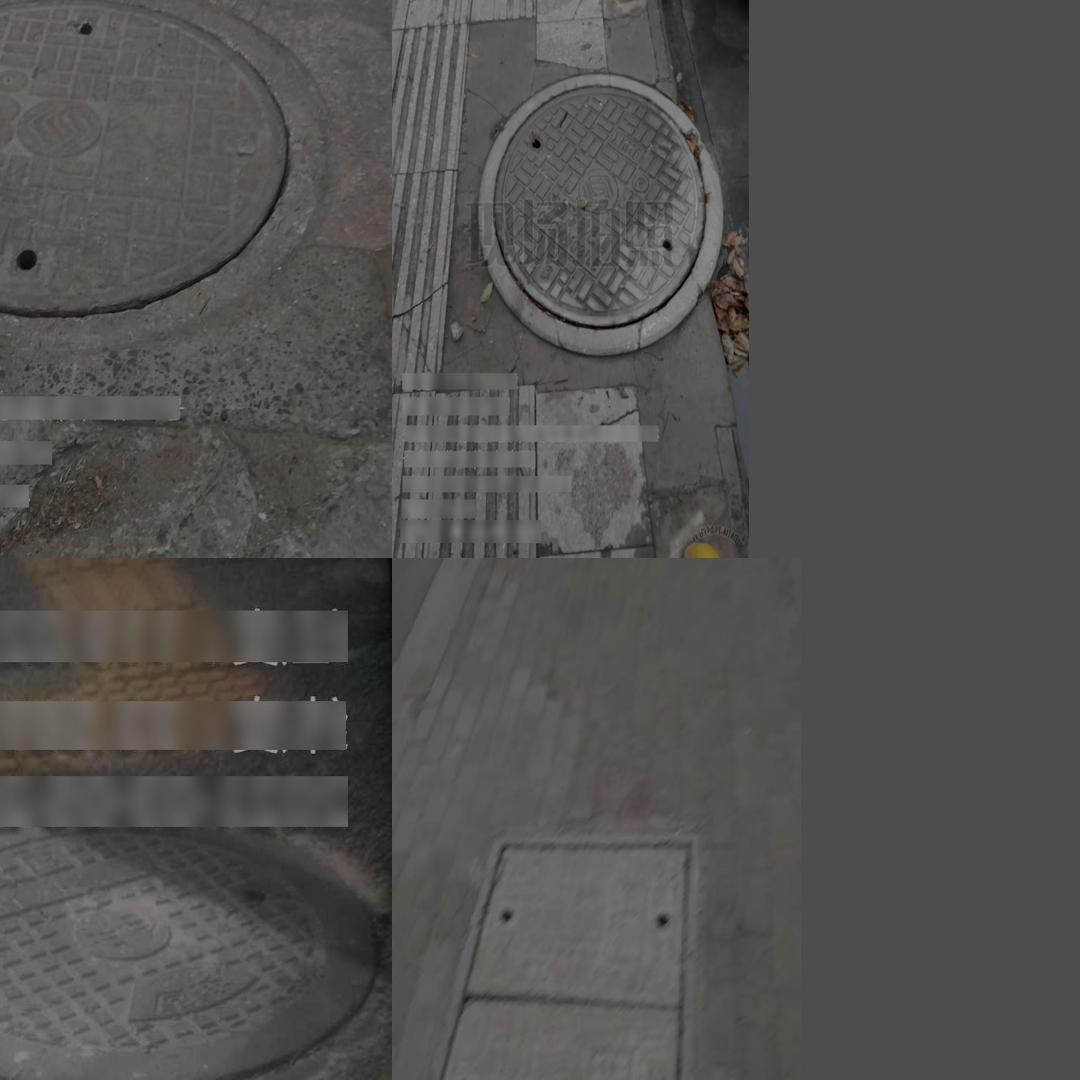good: (0, 746, 363, 1080), (0, 0, 335, 346), (392, 830, 699, 1080), (478, 72, 723, 356)
